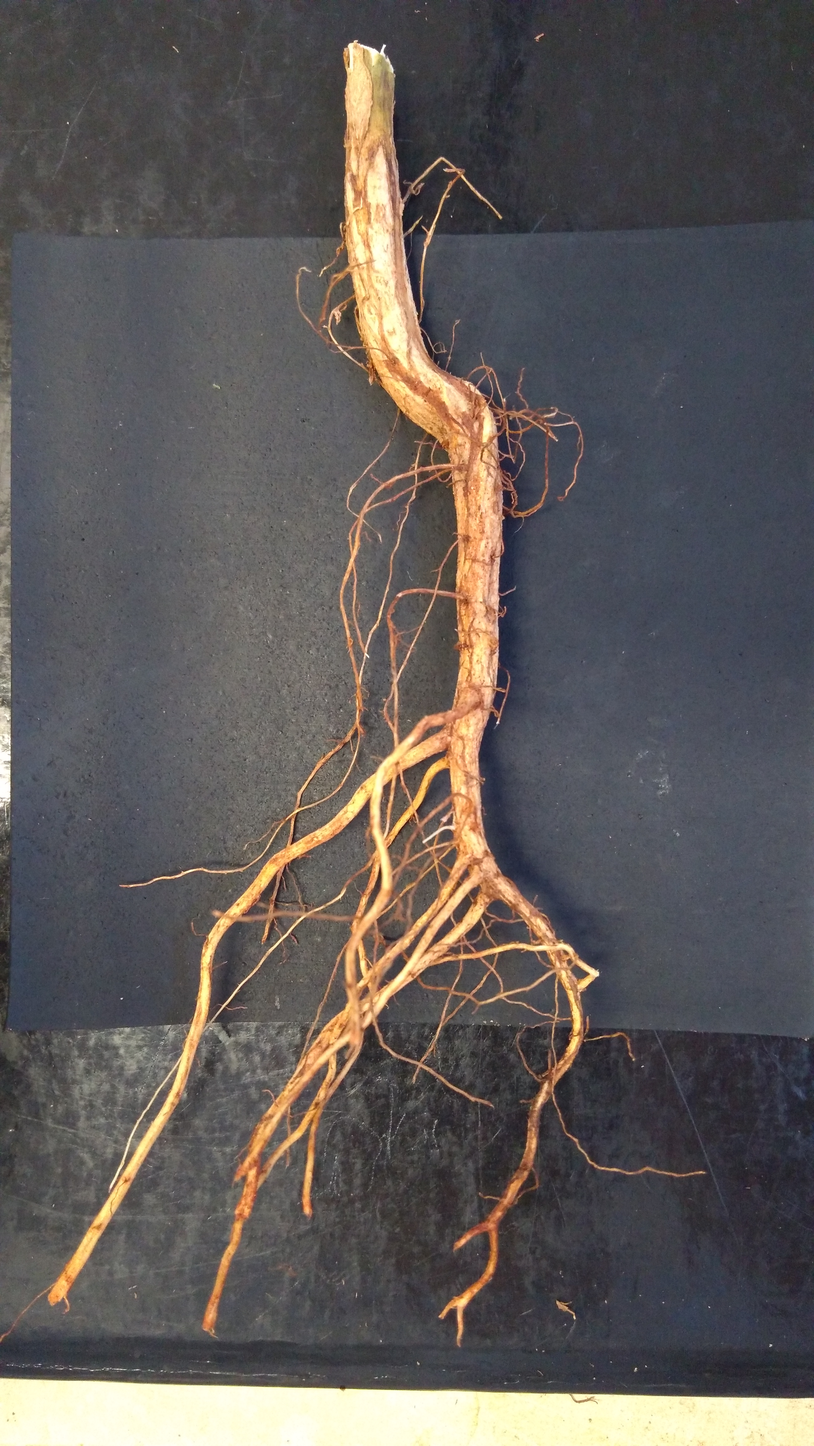nodule: (366, 360, 374, 386), (399, 197, 405, 217), (440, 438, 450, 450), (560, 953, 571, 961)
